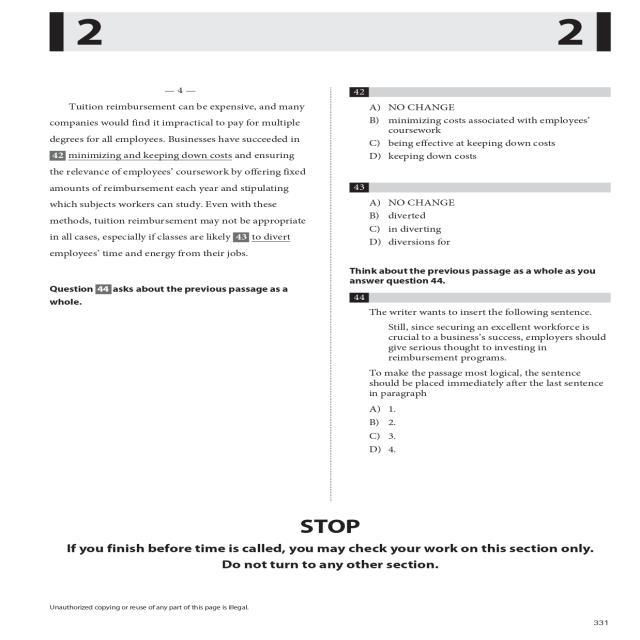Answer_Block: (342, 100, 623, 164), (342, 398, 623, 461), (342, 193, 623, 256)
Instruction: (39, 86, 324, 504), (343, 262, 624, 290)
Question_Answer_Block: (342, 289, 623, 463), (342, 84, 623, 164), (342, 179, 623, 256)
Question_Block: (342, 289, 623, 399), (342, 179, 623, 194), (342, 84, 623, 99)
Question_Paper_Area: (39, 86, 324, 504), (342, 84, 623, 501)
